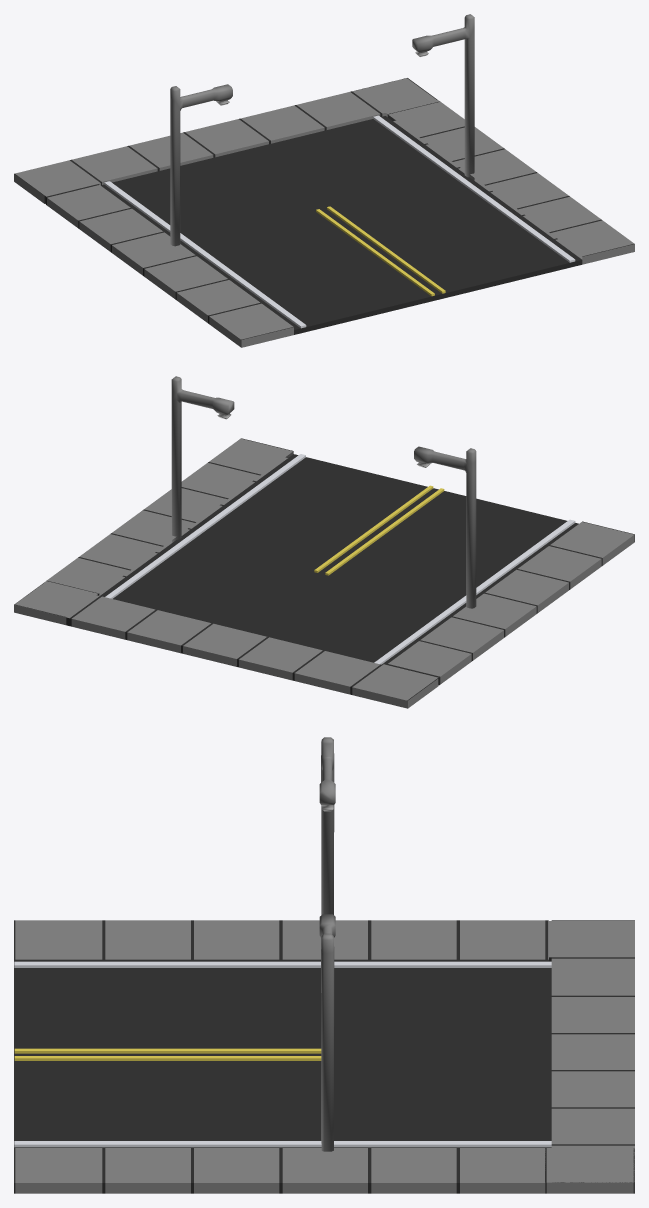
The model's file is DeadEnd.fbx.
3 views of the same model, one above another, from view 1: azimuth 30°, elevation 25°; view 2: azimuth 150°, elevation 25°; view 3: azimuth 270°, elevation 25° (orthographic). The views are drawn at different scales.
Parts seen in each view (by area): view 1: Plane.001; view 2: Plane.001; view 3: Plane.001.
Boxes of the visible parts, x1,y1,x2,y2 form: Plane.001: (14, 14, 634, 347); Plane.001: (14, 376, 634, 708); Plane.001: (14, 737, 634, 1193).
Size of the model in its own units: 1001 by 1000 by 400.
